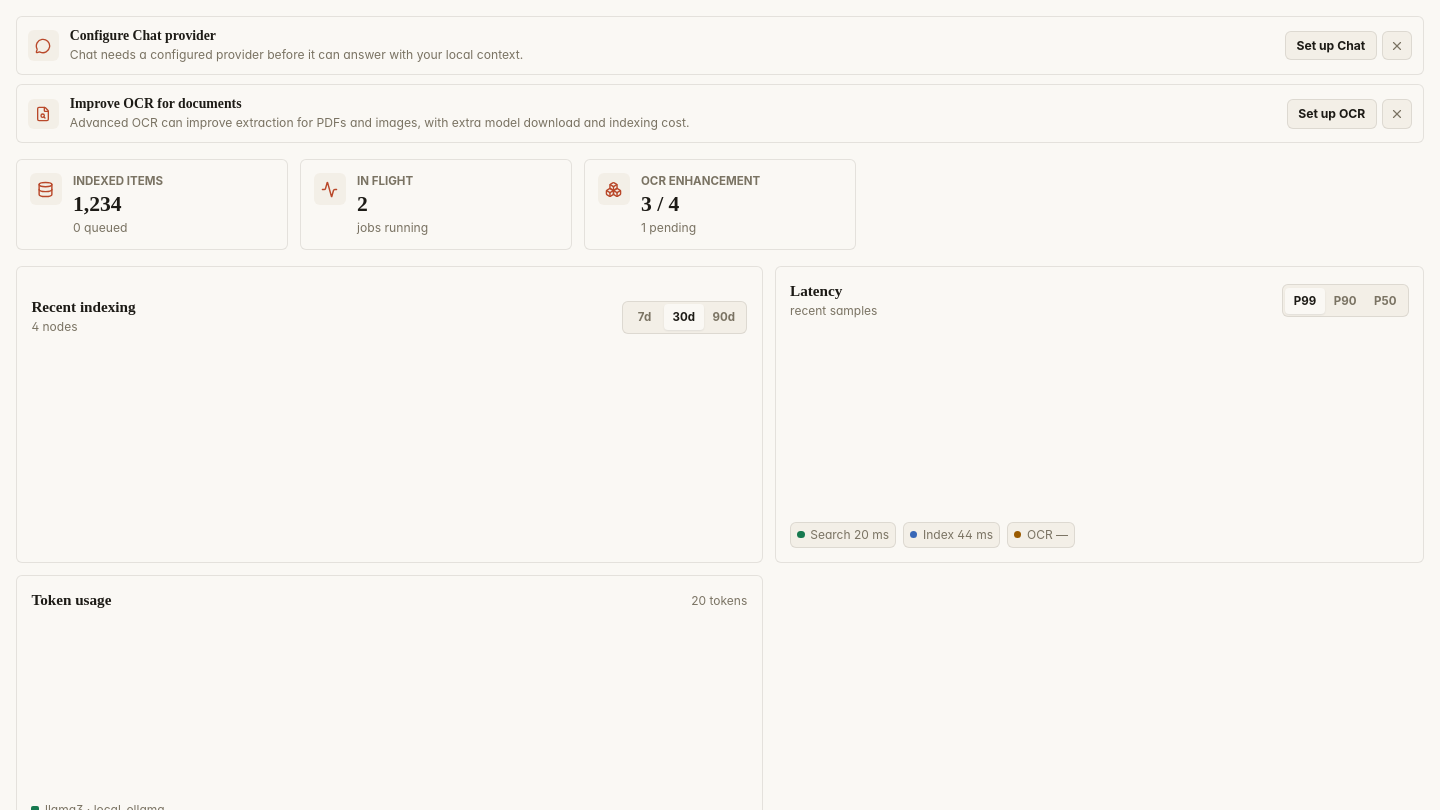
HomeDashboard › shows secondary prompts only after content exists and settings make them relevant
This screenshot has width=1440, height=810.
Expected: the heading "Configure Chat provider" is shown, [70,28,216,43]
Expected: the heading "Improve OCR for documents" is shown, [70,96,242,111]
Click the button "Set up Chat": (1331, 46) [1285,31,1377,60]
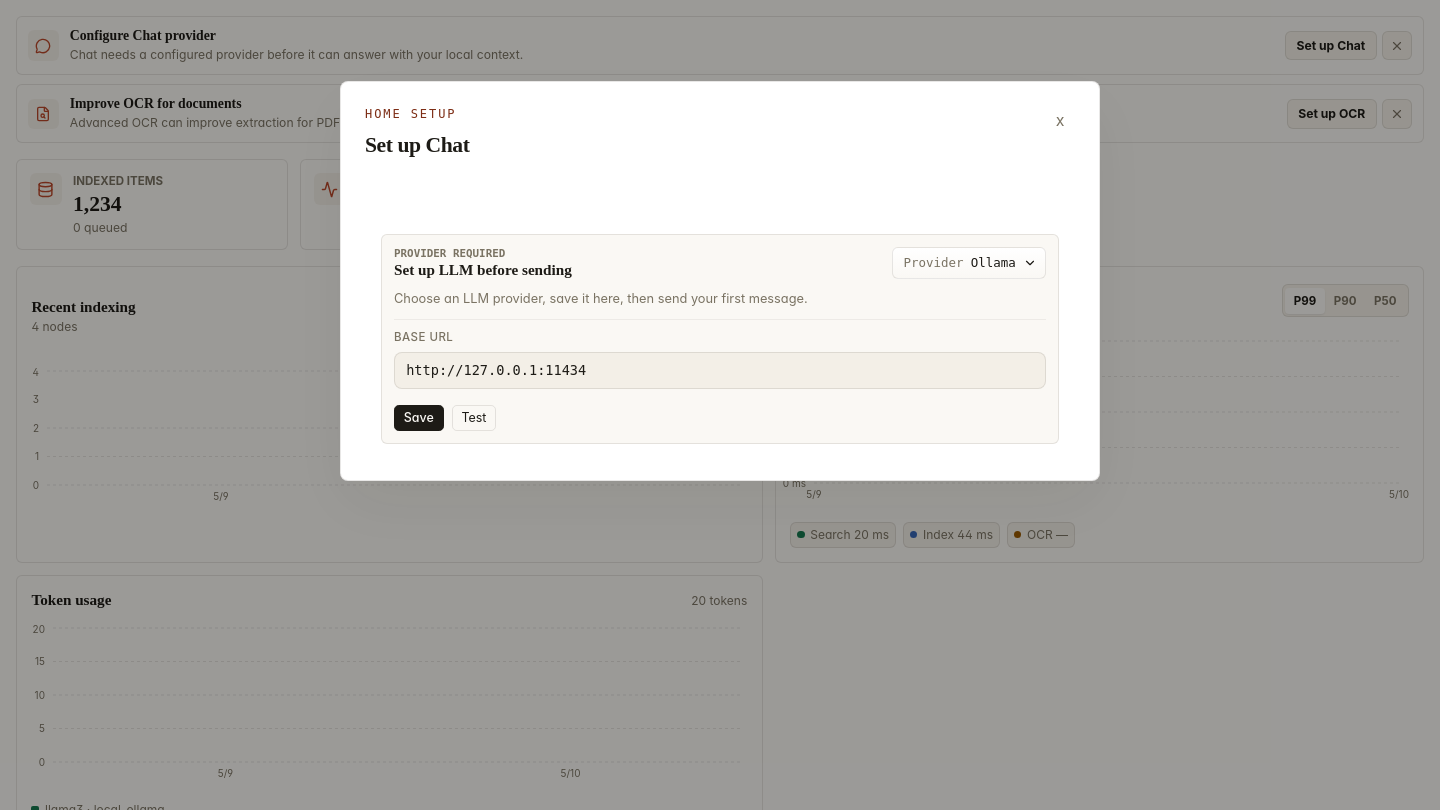
Result: the dialog "Set up Chat" is shown
Click the button named "Close": (1060, 120) [1045,106,1075,134]
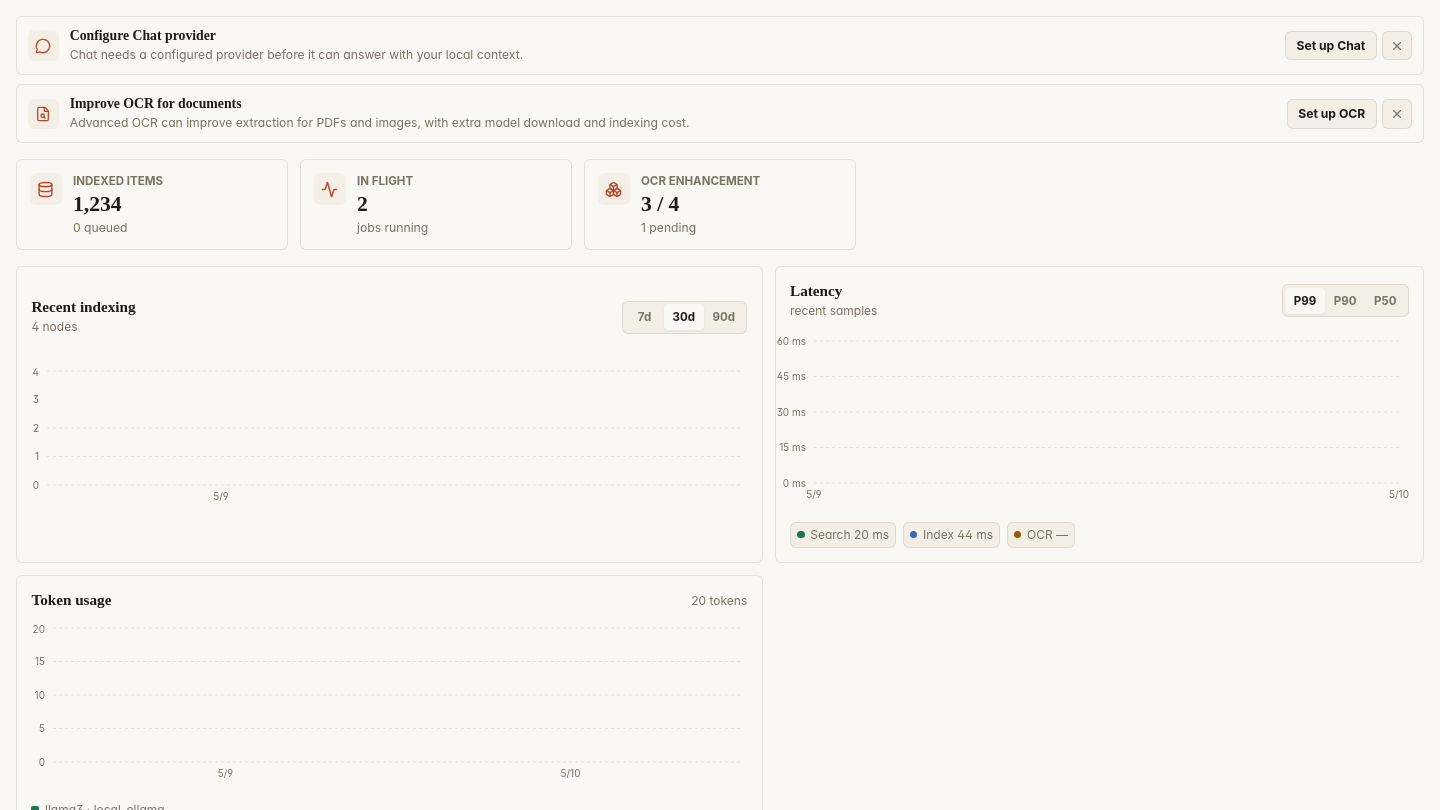
Click the button "Set up OCR": (1332, 114) [1287,99,1377,129]
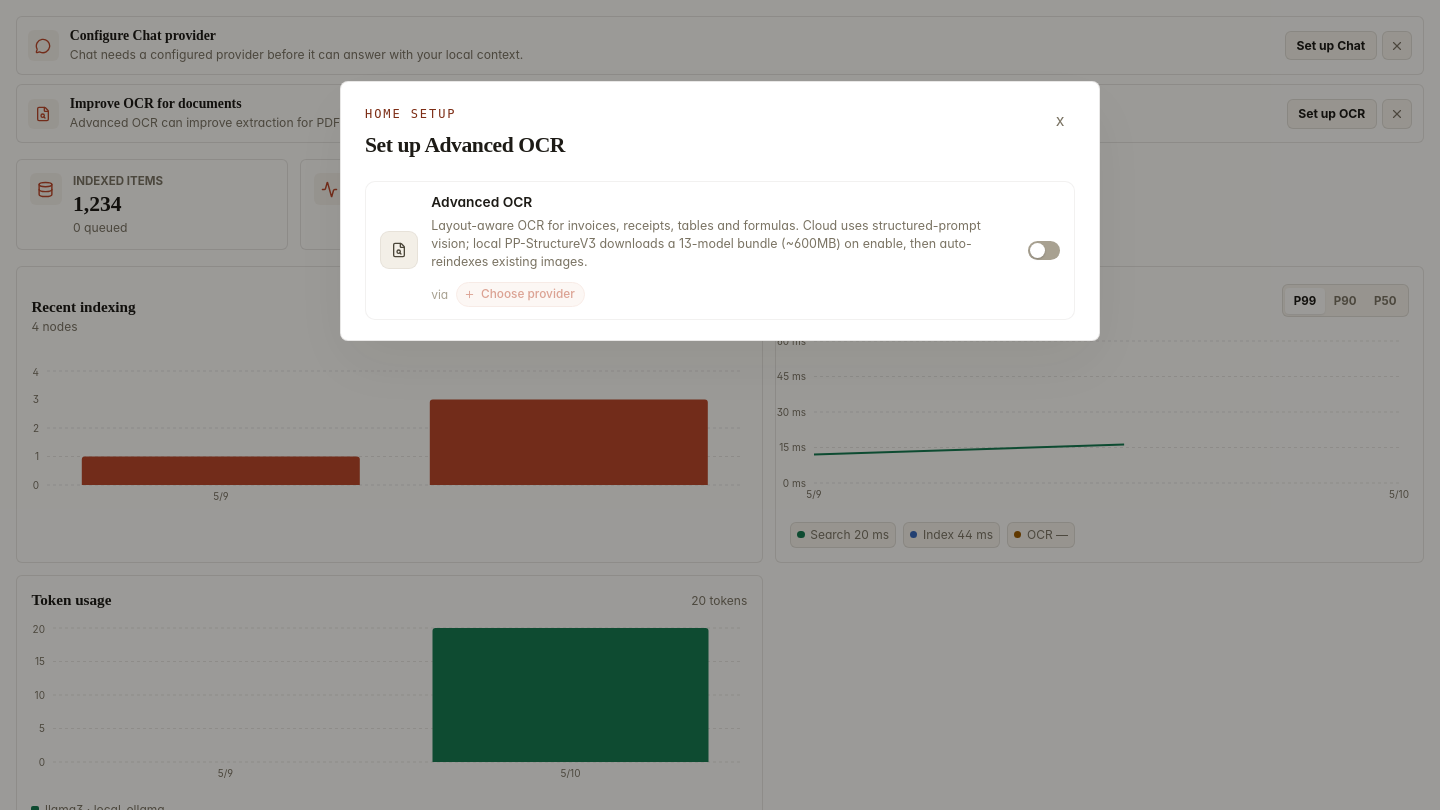
Result: the dialog "Set up Advanced OCR" is shown
